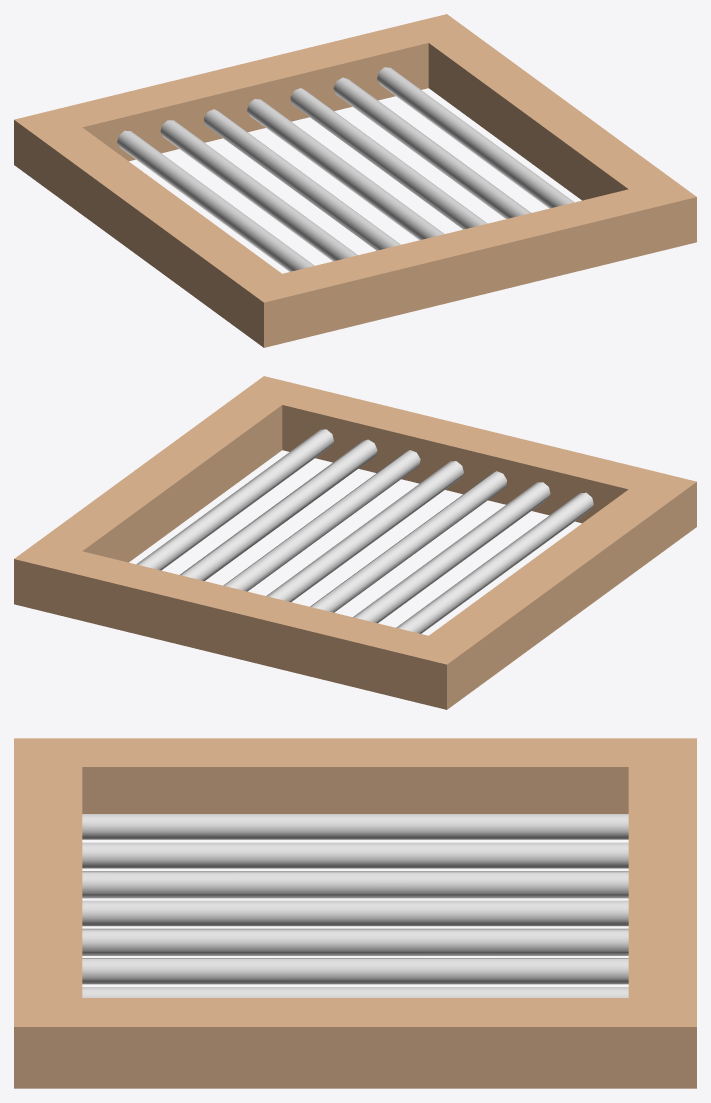
File: floor_bars.glb
3 renders of one model, top to bottom at view 1: azimuth 30°, elevation 25°; view 2: azimuth 150°, elevation 25°; view 3: azimuth 270°, elevation 25°, orthographic. The views are drawn at different scales.
Visible parts, largest first — view 1: FloorBars; view 2: FloorBars; view 3: FloorBars.
Part boxes in pixels (x1,y1,x2,y2): FloorBars: [14, 14, 696, 347]; FloorBars: [14, 376, 696, 709]; FloorBars: [14, 738, 696, 1088].
Size of the model in its own units: 1 by 0.1 by 1.
